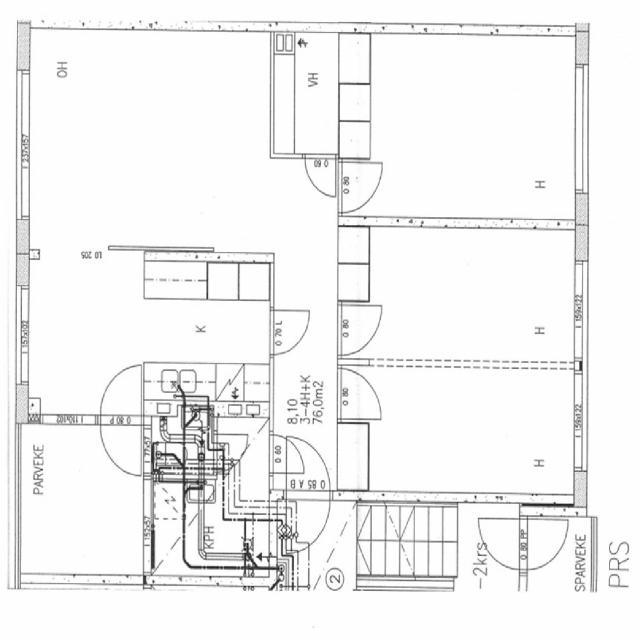door: (285, 493, 331, 558), (285, 437, 331, 502), (100, 415, 141, 475), (100, 365, 141, 425), (338, 304, 383, 355), (338, 162, 383, 212), (338, 368, 383, 418), (269, 310, 310, 355), (213, 434, 248, 472), (269, 435, 304, 472), (305, 153, 335, 195)
